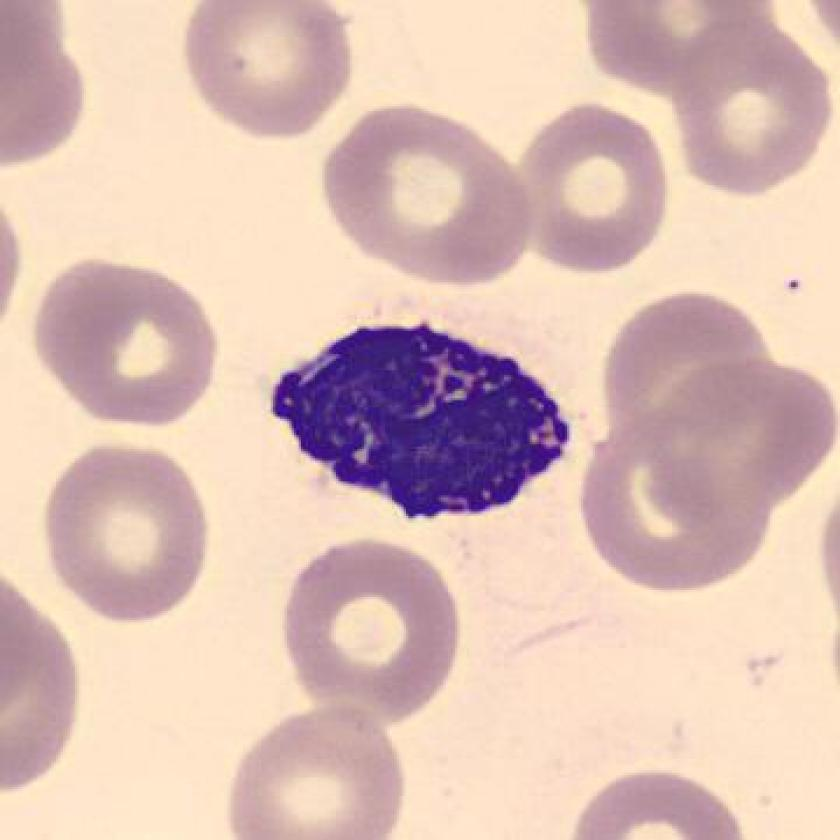basophil: (249, 309, 599, 540)
